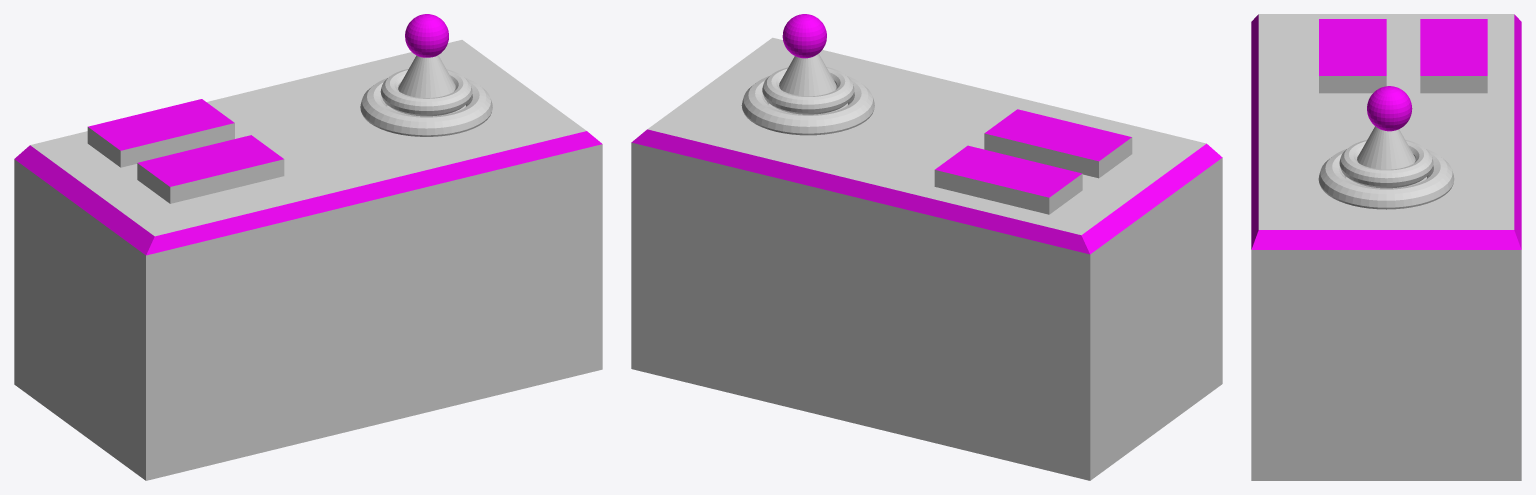
File: Rect_03.fbx
3 views of the same model, side by side, from view 1: azimuth 30°, elevation 25°; view 2: azimuth 150°, elevation 25°; view 3: azimuth 270°, elevation 25° (orthographic). The views are drawn at different scales.
Visible parts, largest first — view 1: Torus.001; view 2: Torus.001; view 3: Torus.001.
Part boxes in pixels (left/top/right/bottom): Torus.001: left=14, top=14, right=602, bottom=480; Torus.001: left=631, top=14, right=1222, bottom=480; Torus.001: left=1251, top=14, right=1521, bottom=480.
Bounding box in the file's own units: 400 × 277 × 200.
